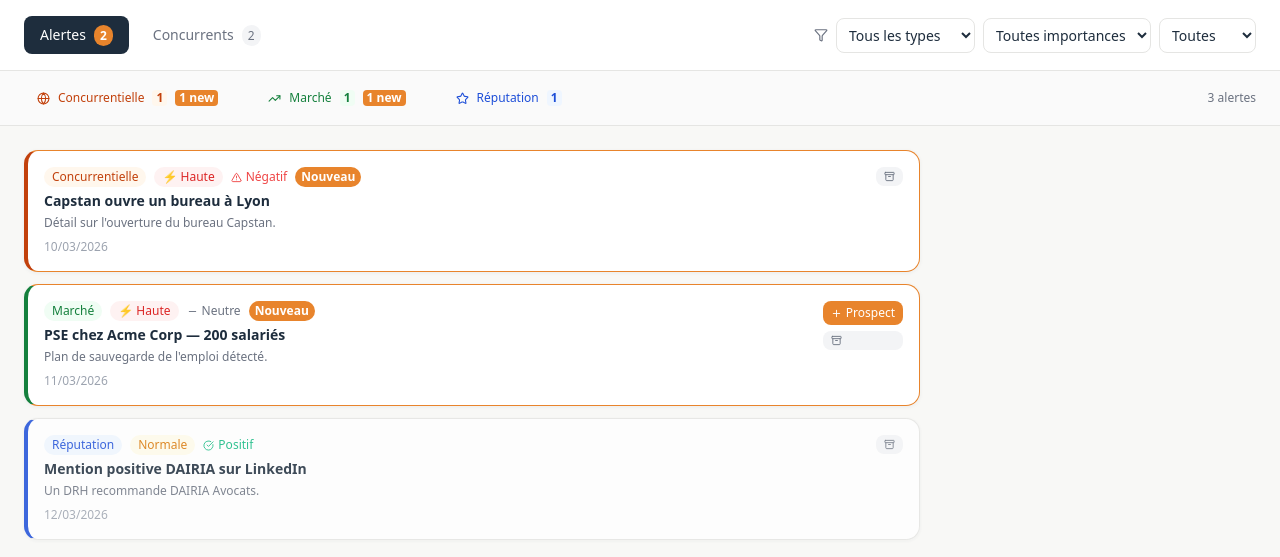
Test: VeilleClient › filters by type marche
Select "Marché" in the 1st dropdown showing "Tous les types" at point(906, 35), box [836, 18, 975, 53]
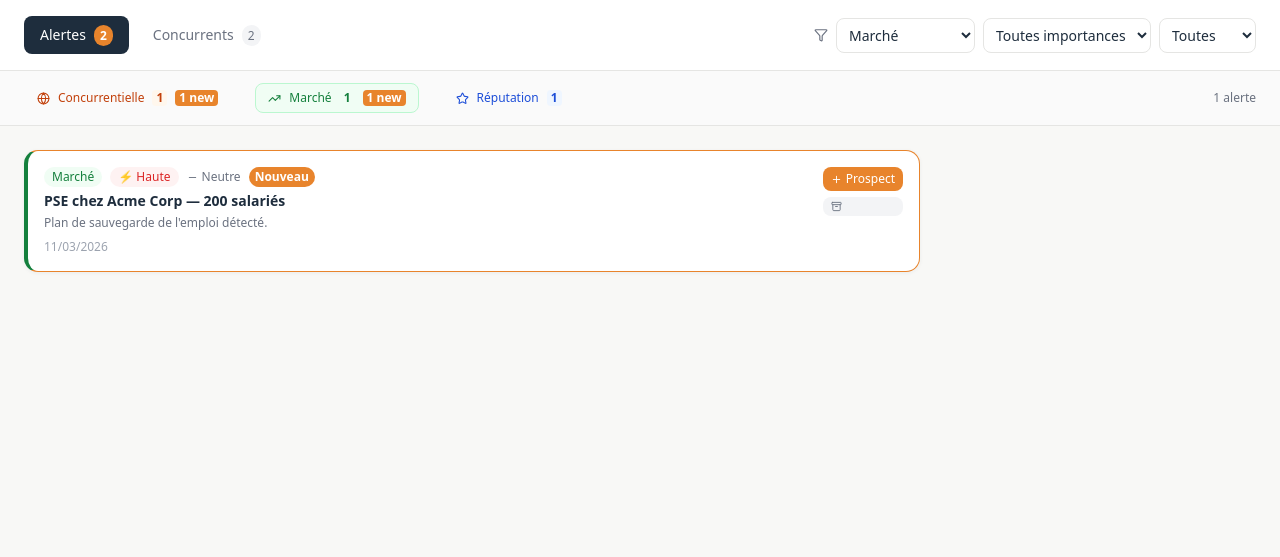
Expected: the text "PSE chez Acme Corp — 200 salariés" is shown, [44, 191, 285, 210]
Expected: the text "Capstan ouvre un bureau à Lyon" is gone
